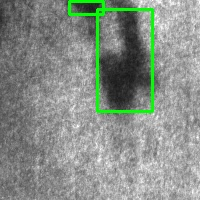patches: (97, 9, 152, 111), (69, 1, 103, 14)
